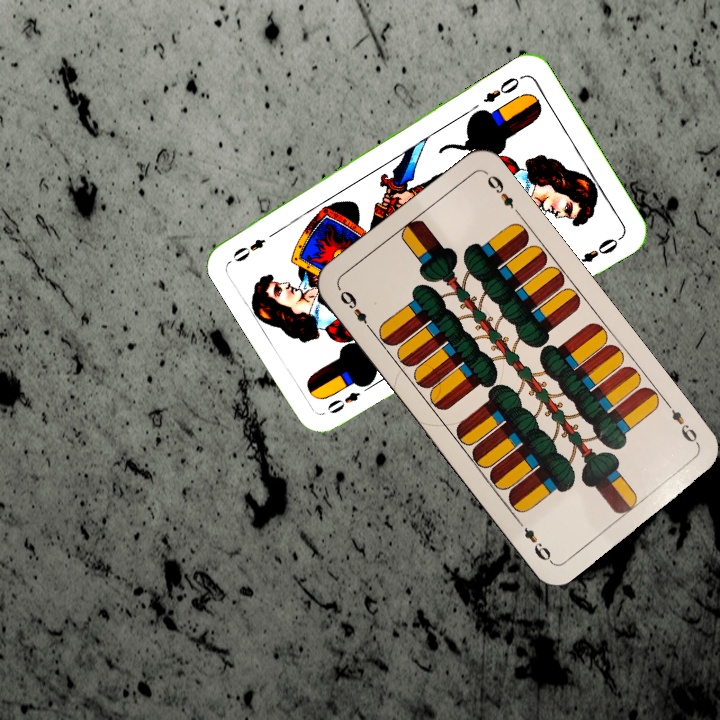E9: (662, 398, 702, 449), (335, 286, 376, 335)
EO: (323, 379, 375, 417), (479, 71, 526, 106)
